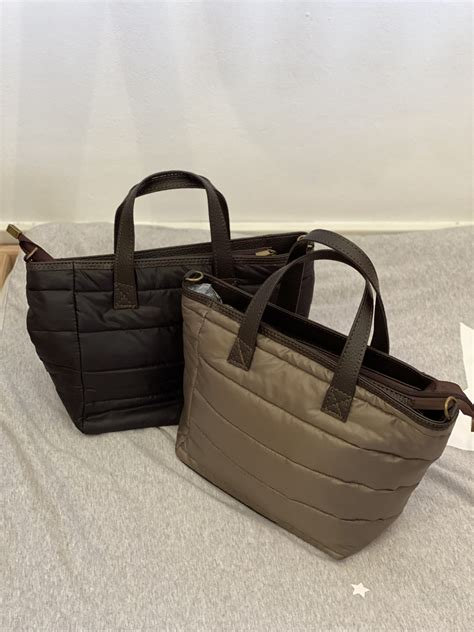nylon: (17, 167, 466, 565)
